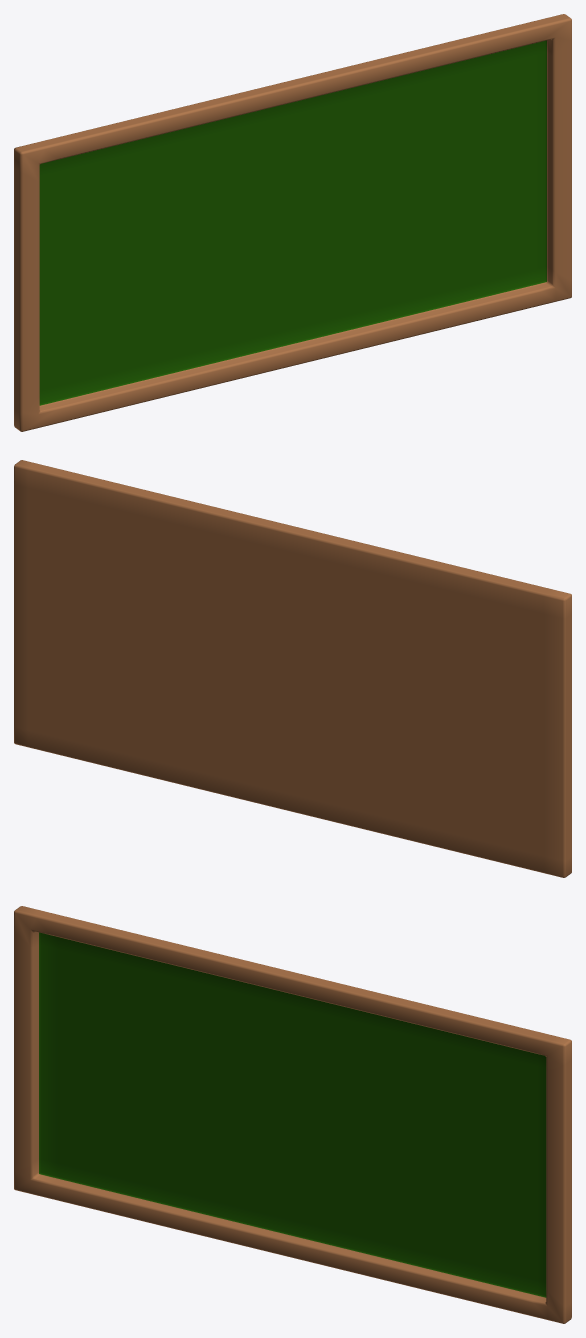
The model's file is tahta.fbx.
3 renders of one model, top to bottom at view 1: azimuth 30°, elevation 25°; view 2: azimuth 150°, elevation 25°; view 3: azimuth 330°, elevation 25°, orthographic.
Parts seen in each view (by area): view 1: Plane; view 2: Plane; view 3: Plane.
Boxes of the visible parts, <box> form: Plane: <box>14,14,571,431</box>; Plane: <box>14,460,571,877</box>; Plane: <box>14,906,571,1323</box>.
Bounding box in the file's own units: 870 × 422 × 22.05.
